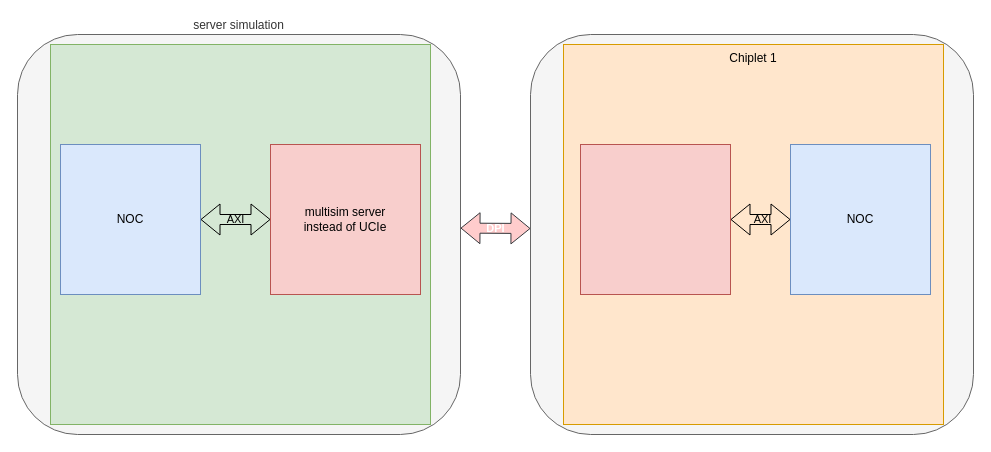
Image size: 991x452. Some labels were removed from this diagram. Each missing label, with the box of its shape:
Chiplet 0: (50, 44, 430, 424)
client simulation: (530, 34, 974, 434)
multisim client instead of UCIe: (580, 144, 730, 294)
